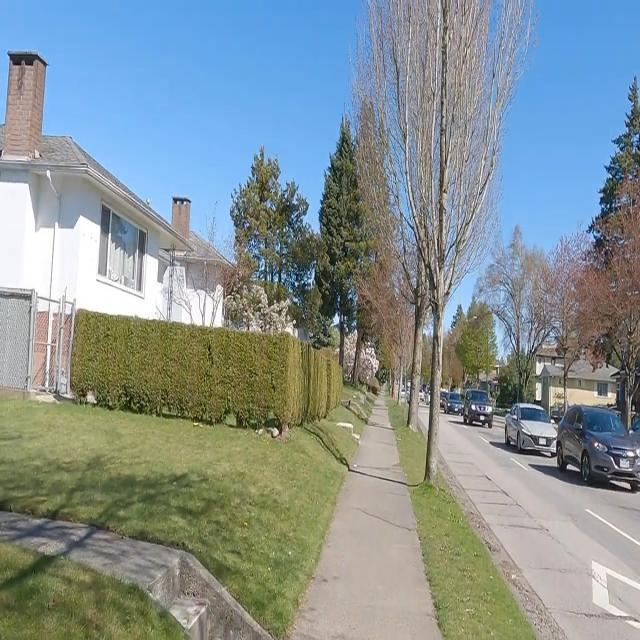Automobile: (556, 405, 639, 491), (505, 403, 556, 452), (464, 389, 493, 427), (444, 392, 462, 412)
Road: (440, 415, 639, 639)
Sidewalk: (291, 395, 441, 639)
